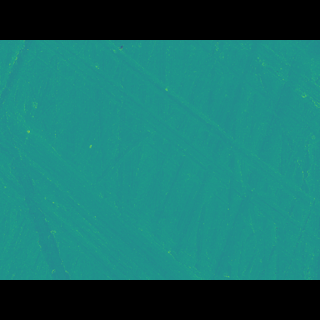Loch: (36, 69, 319, 226), (0, 121, 208, 249)
